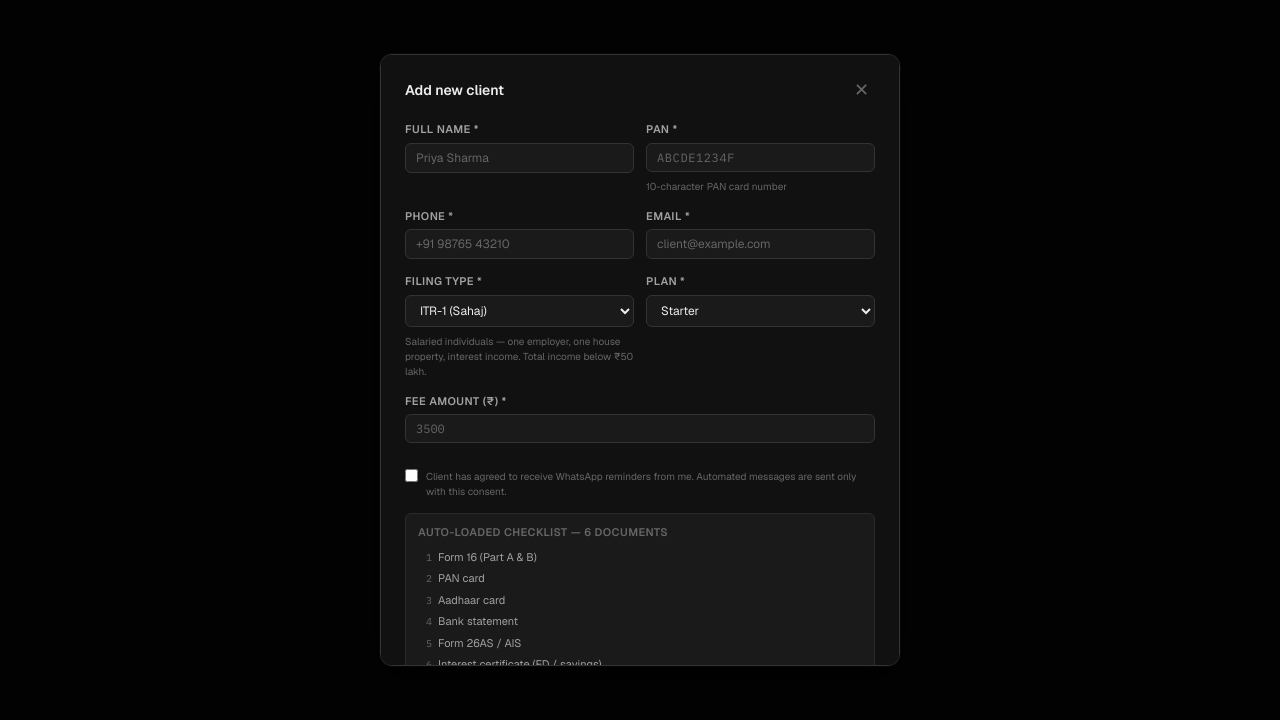
Test case: ClientFormModal — validation › invalid PAN format shows error
Type "INVALID" into the field with placeholder "ABCDE1234F" at {"x": 760, "y": 157}, box [646, 142, 875, 172]
(page scrolled)
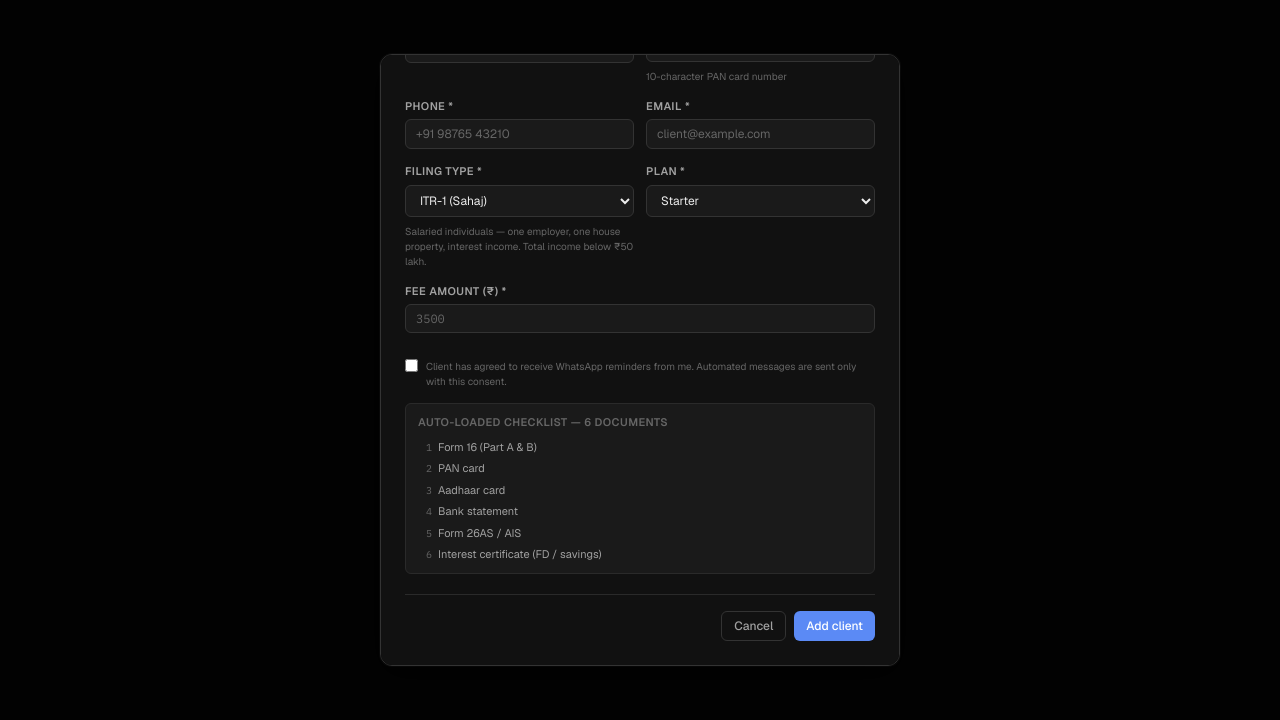
Click the button "Add client" at {"x": 835, "y": 626}, box [794, 610, 875, 640]
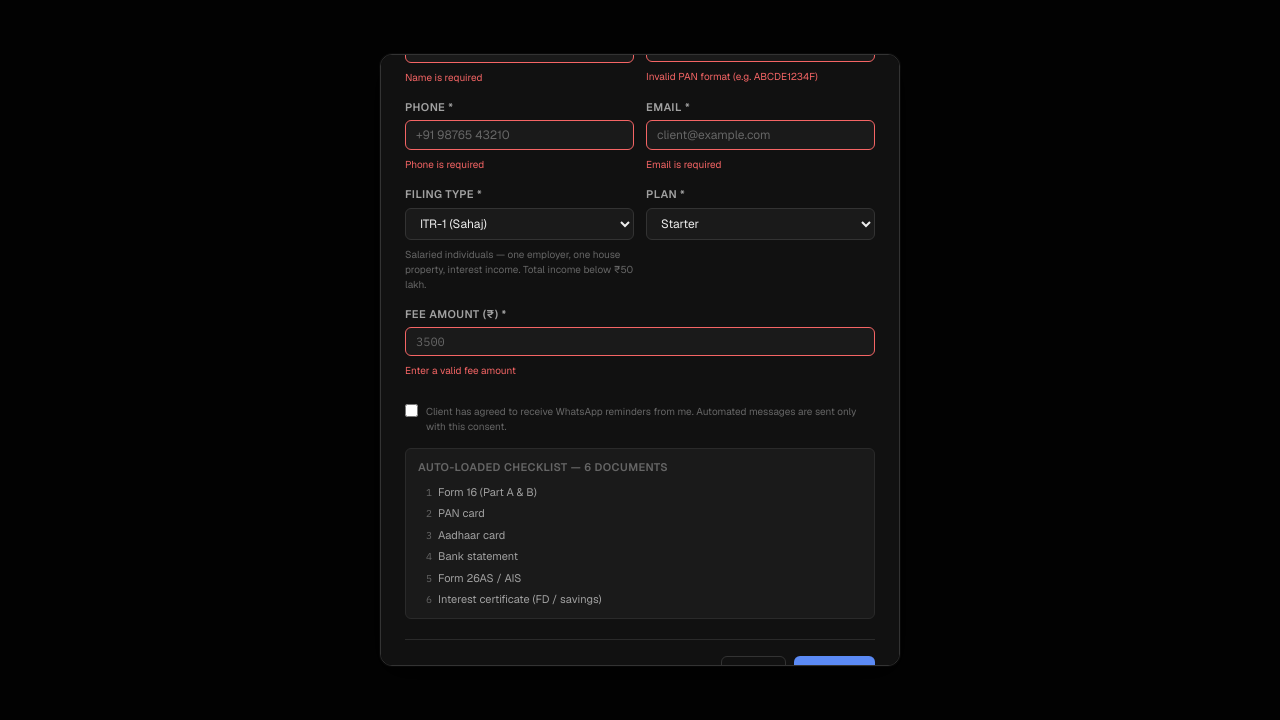
Check: the text "Invalid PAN format (e.g. ABCDE1234F)" is shown, box [646, 70, 818, 82]
